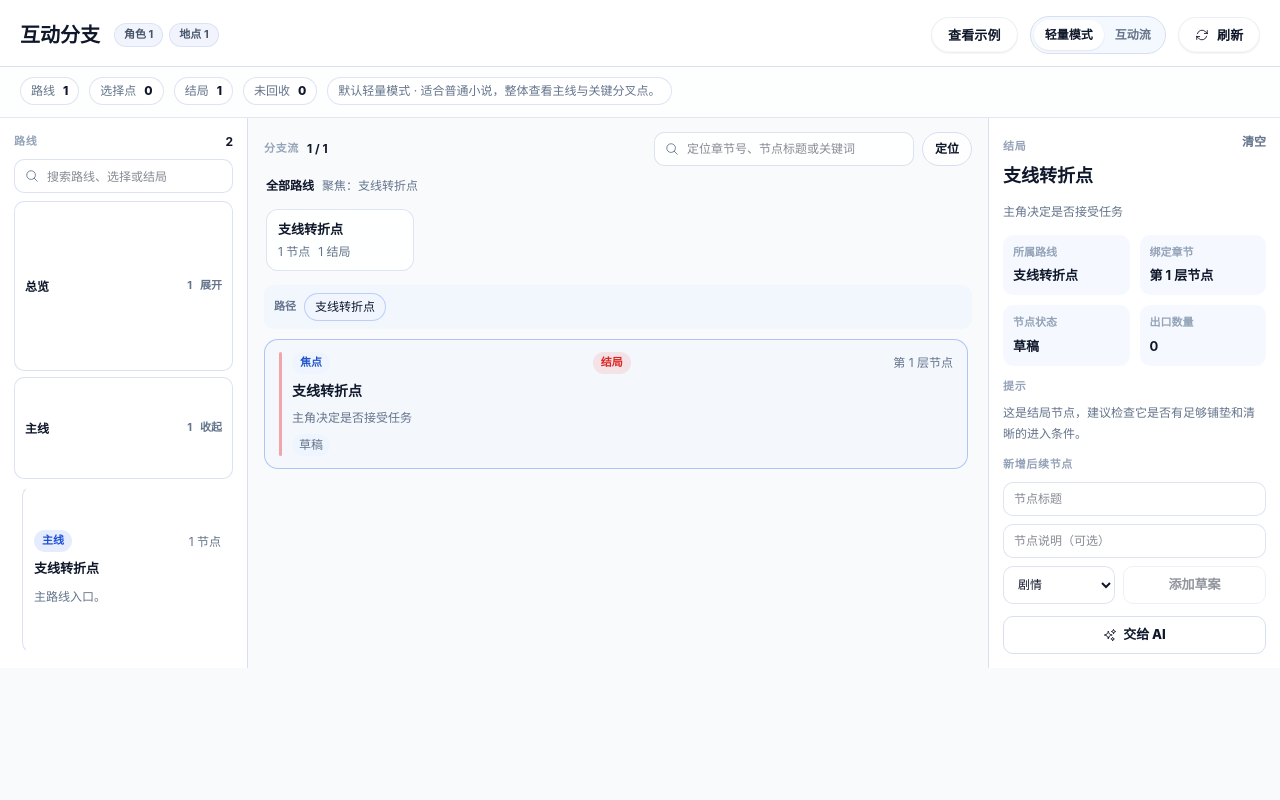
it: StoryBranchView › 节点定位未命中时应显示失败反馈
Type "不存在的分支" into the field with placeholder "定位章节号、节点标题或关键词" at (795, 149), box [687,139,903,159]
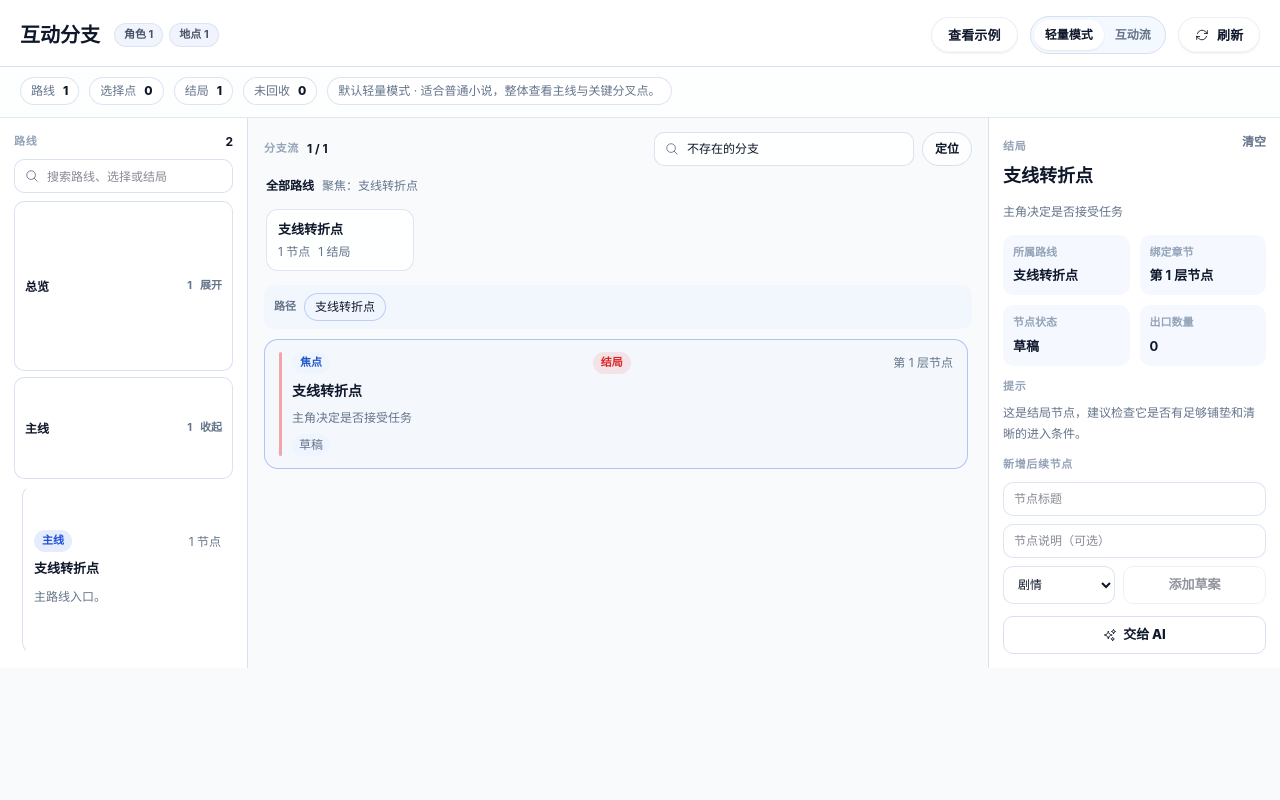
Click the button "定位" at (947, 149), box [922,132,972,166]
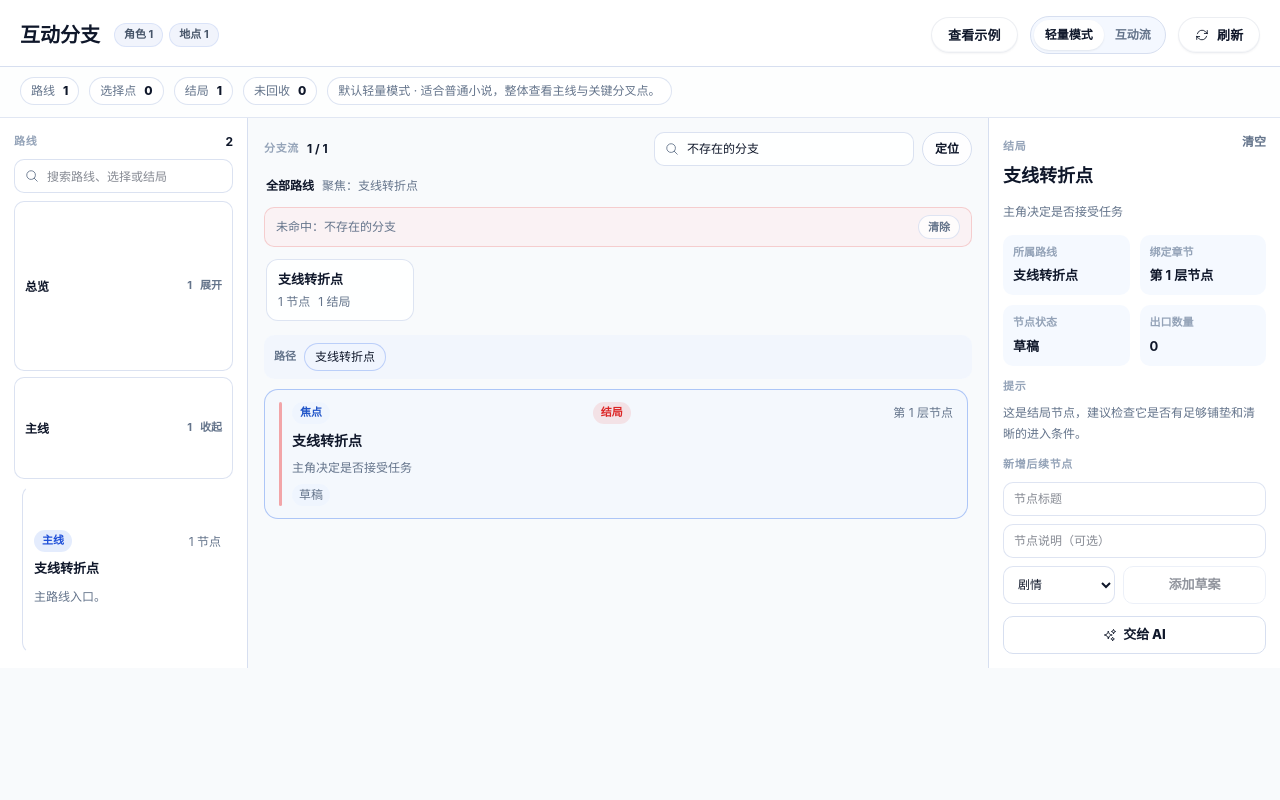
expect the element with test id "branch-locate-feedback" shows "未命中：不存在的分支": met, box [276,219,396,234]
